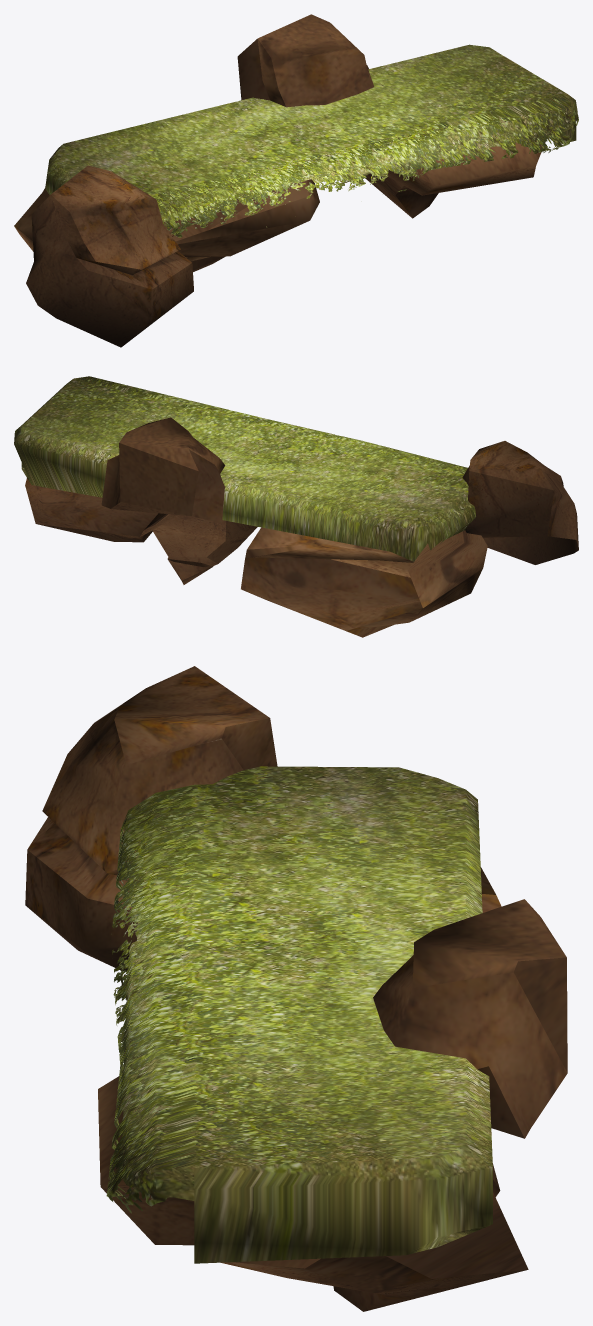
Rendered from Rocher_Dessus.FBX.
3 views of the same model, one above another, from view 1: azimuth 30°, elevation 25°; view 2: azimuth 150°, elevation 25°; view 3: azimuth 270°, elevation 25° (orthographic). The views are drawn at different scales.
Parts seen in each view (by area): view 1: Object002; view 2: Object002; view 3: Object002.
Part boxes in pixels (bbox=[...]): Object002: bbox=[14, 14, 578, 347]; Object002: bbox=[14, 376, 578, 637]; Object002: bbox=[25, 666, 567, 1311].
Size of the model in its own units: 18.42 by 5.45 by 8.58.
